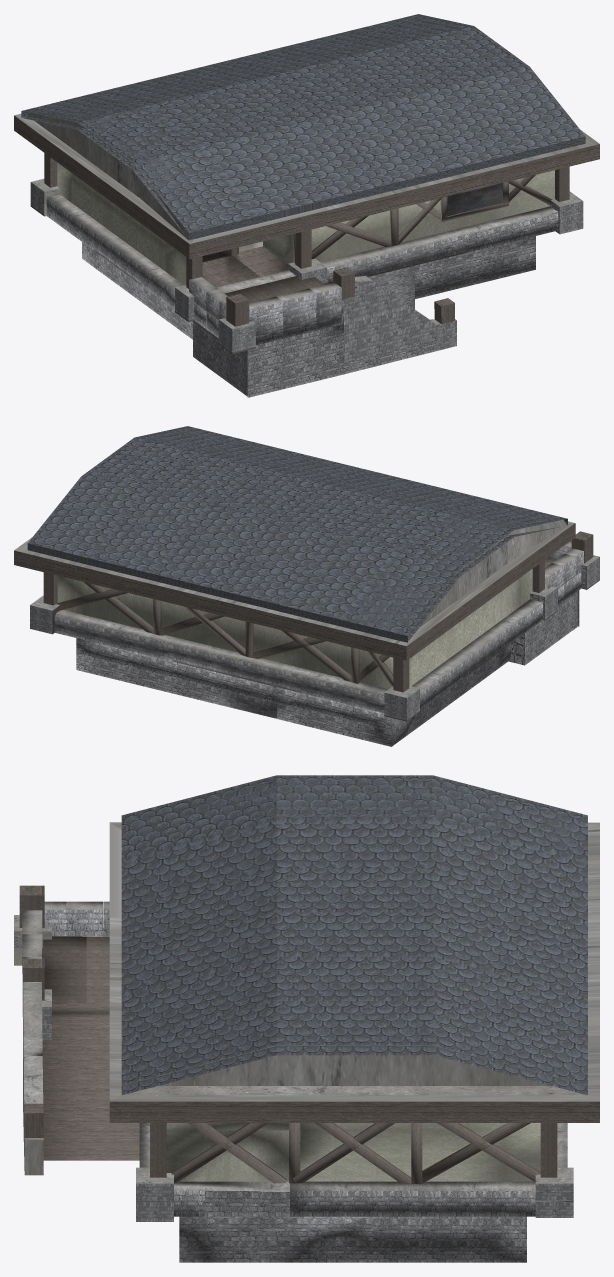
File: EXT CLINIC FINAL.fbx
3 views of the same model, one above another, from view 1: azimuth 30°, elevation 25°; view 2: azimuth 150°, elevation 25°; view 3: azimuth 270°, elevation 25° (orthographic). The views are drawn at different scales.
Parts seen in each view (by area): view 1: clionic; view 2: clionic; view 3: clionic.
Part boxes in pixels (x1=…): clionic: x1=14, y1=14, x2=599, y2=397; clionic: x1=14, y1=426, x2=599, y2=746; clionic: x1=14, y1=775, x2=599, y2=1262.
Bounding box in the file's own units: 5959 × 2402 × 5280.
1 material, 1 textured.
